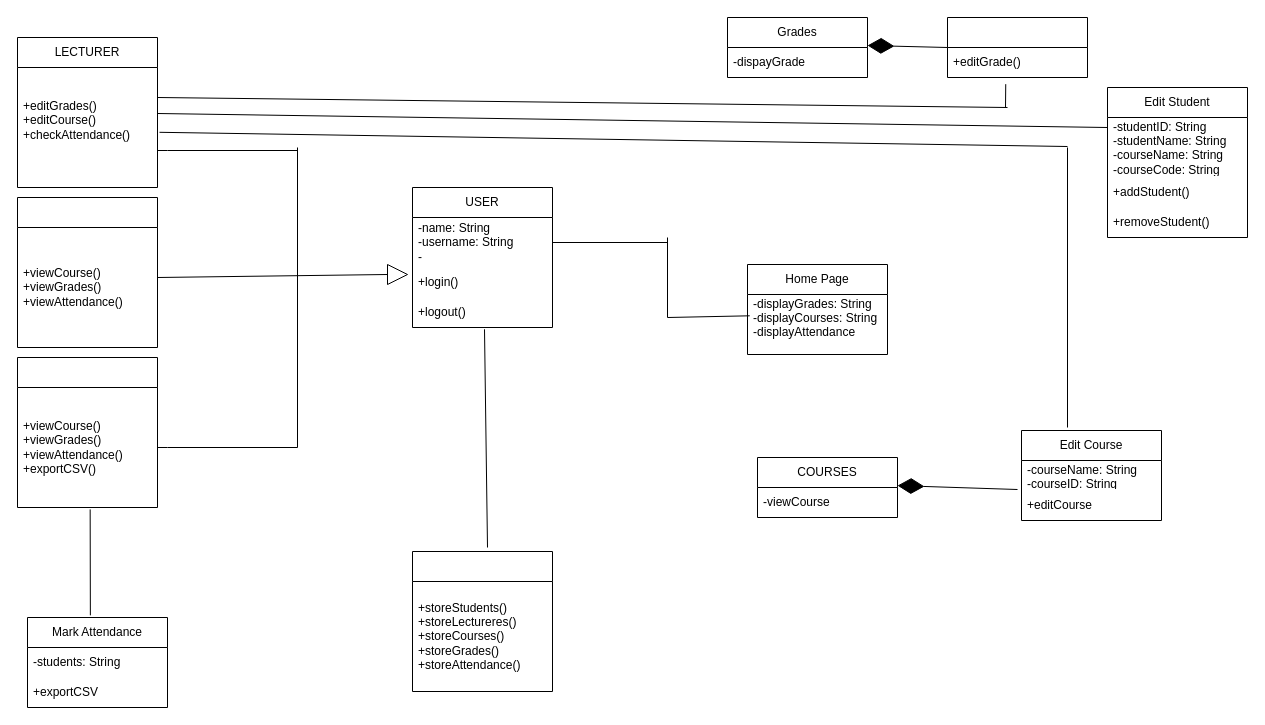
Some shapes in this 1265 by 725 pixel diagram are drawn without their labels. Here are the shapes that lost their labels. From the top down, the box of each, then its label:
(946, 16, 1088, 78): Edit Grades
(16, 196, 158, 348): STUDENT
(16, 356, 158, 508): CLASS REPRESENTATIVE
(412, 550, 552, 692): DATABASE
